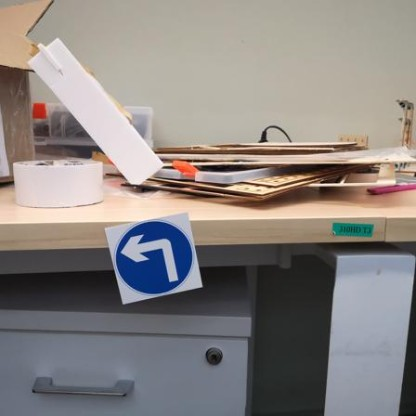left: (89, 215, 215, 303)
